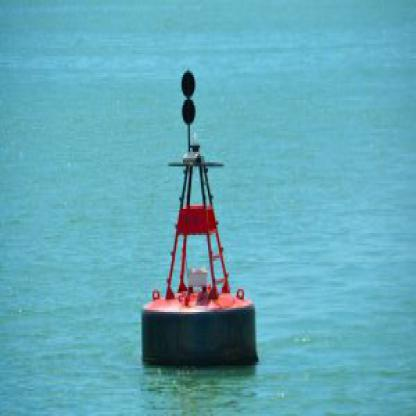buoy: (140, 62, 264, 372)
